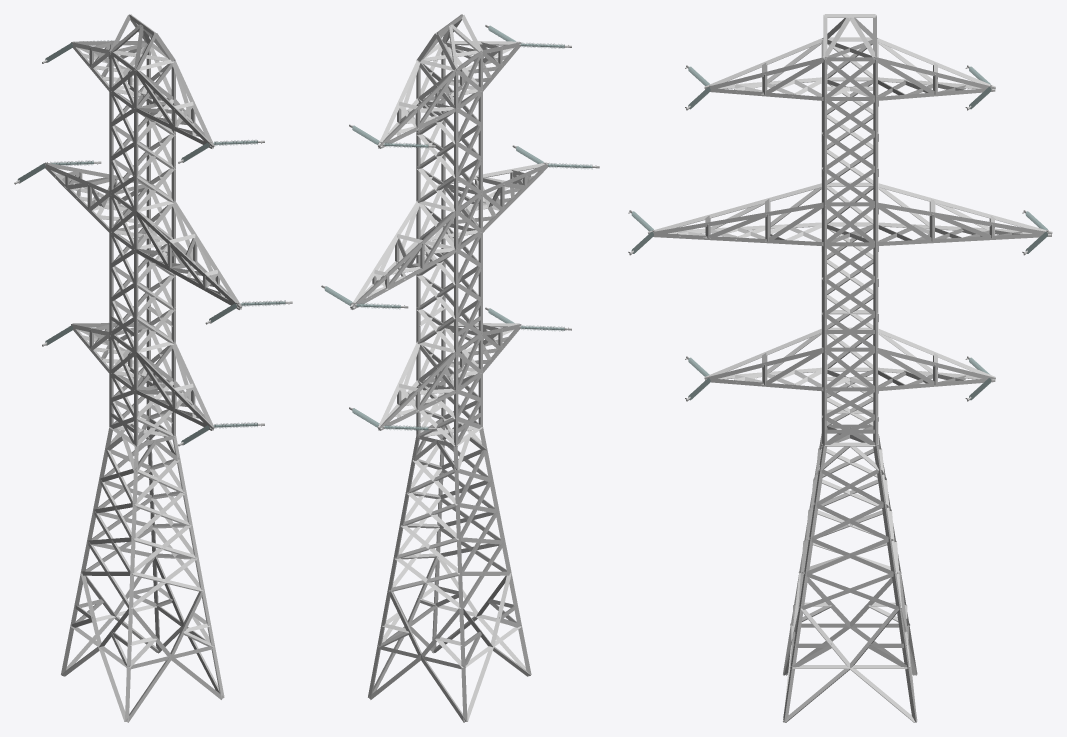
3 views of the same model, side by side, from view 1: azimuth 30°, elevation 25°; view 2: azimuth 150°, elevation 25°; view 3: azimuth 270°, elevation 25° (orthographic). The views are drawn at different scales.
Visible parts, largest first — view 1: SteelPole_Level4_Dwg, BellInsulator_Cylinder01; view 2: SteelPole_Level4_Dwg, BellInsulator_Cylinder01; view 3: SteelPole_Level4_Dwg.
Boxes of the visible parts, x1,y1,x2,y2 form: SteelPole_Level4_Dwg: (43, 14, 241, 722); BellInsulator_Cylinder01: (51, 141, 284, 427); SteelPole_Level4_Dwg: (350, 14, 548, 722); BellInsulator_Cylinder01: (350, 43, 591, 429); SteelPole_Level4_Dwg: (648, 14, 1052, 722).
Size of the model in its own units: 22 by 140 by 78.58.
